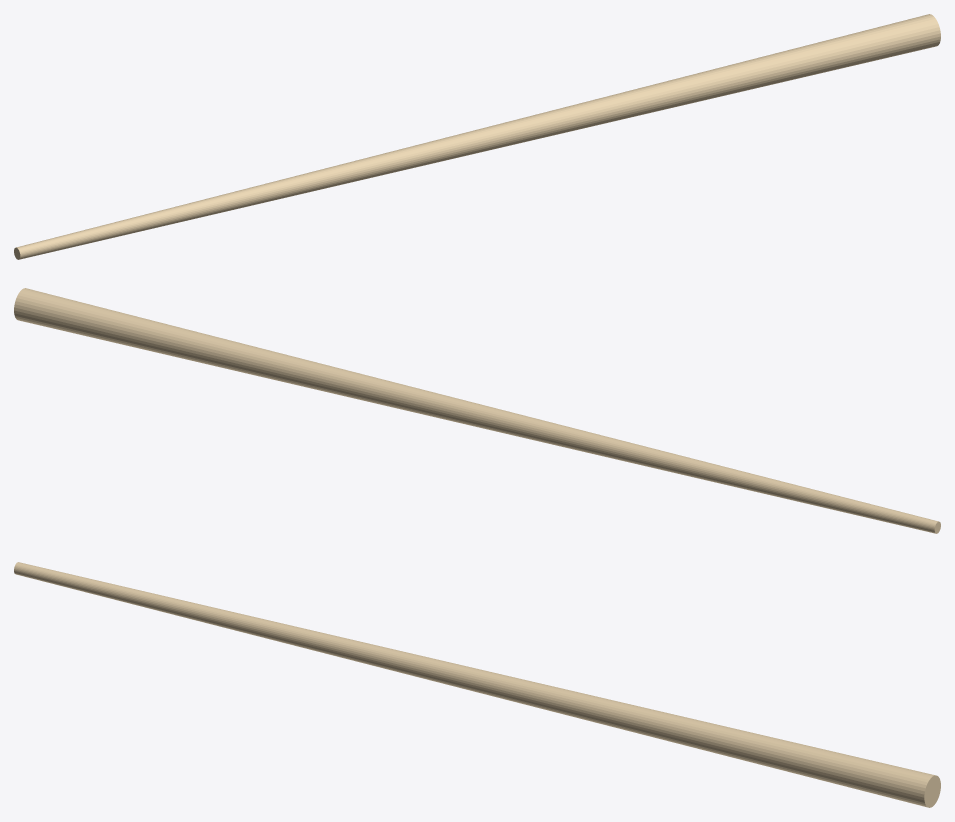
File: Chopstick.fbx
3 renders of one model, top to bottom at view 1: azimuth 30°, elevation 25°; view 2: azimuth 150°, elevation 25°; view 3: azimuth 330°, elevation 25°, orthographic.
Parts seen in each view (by area): view 1: Cylinder; view 2: Cylinder; view 3: Cylinder.
Part boxes in pixels (x1,y1,x2,y2): Cylinder: (14, 14, 940, 259); Cylinder: (14, 288, 940, 533); Cylinder: (14, 562, 940, 807).
Size of the model in its own units: 222 by 7.01 by 7.01.
